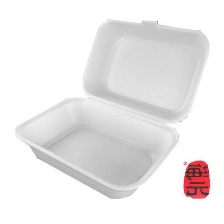foam_box: (11, 13, 213, 202)
